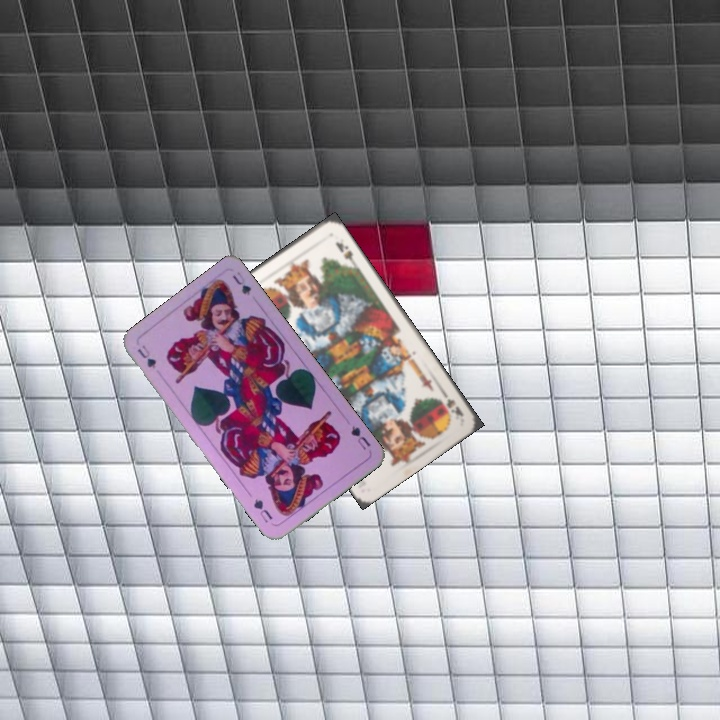GU: (346, 422, 373, 453), (133, 341, 159, 371)
SK: (439, 389, 466, 419)
